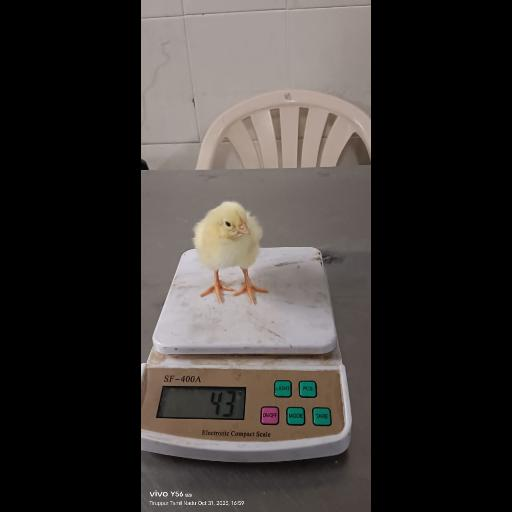chick: (193, 201, 271, 305)
